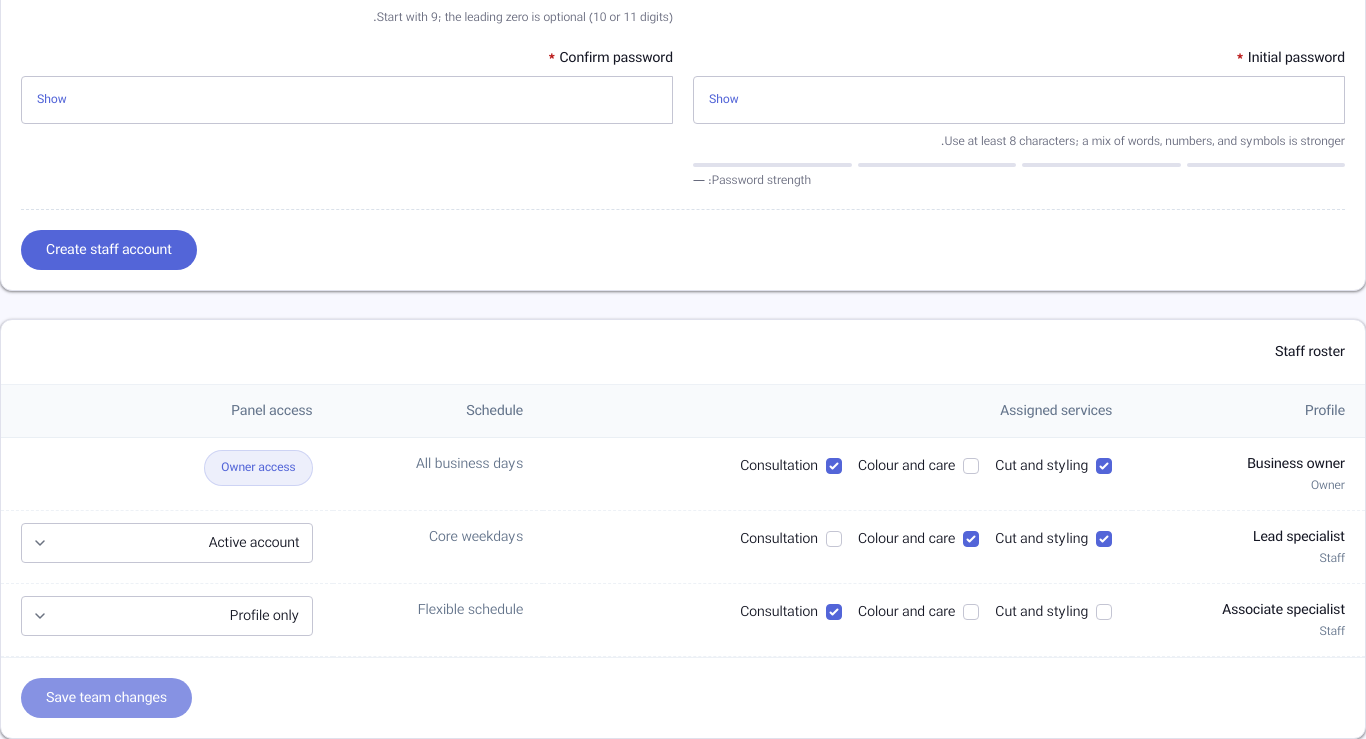
Test: TeamPage › saves changes to existing staff access
(page scrolled)
expect the button "Save team changes" is disabled: met, box [21,678,192,718]
Select "Invitation pending" in the dropdown named "Access state for Associate specialist" at (167, 616), box [21,596,313,636]
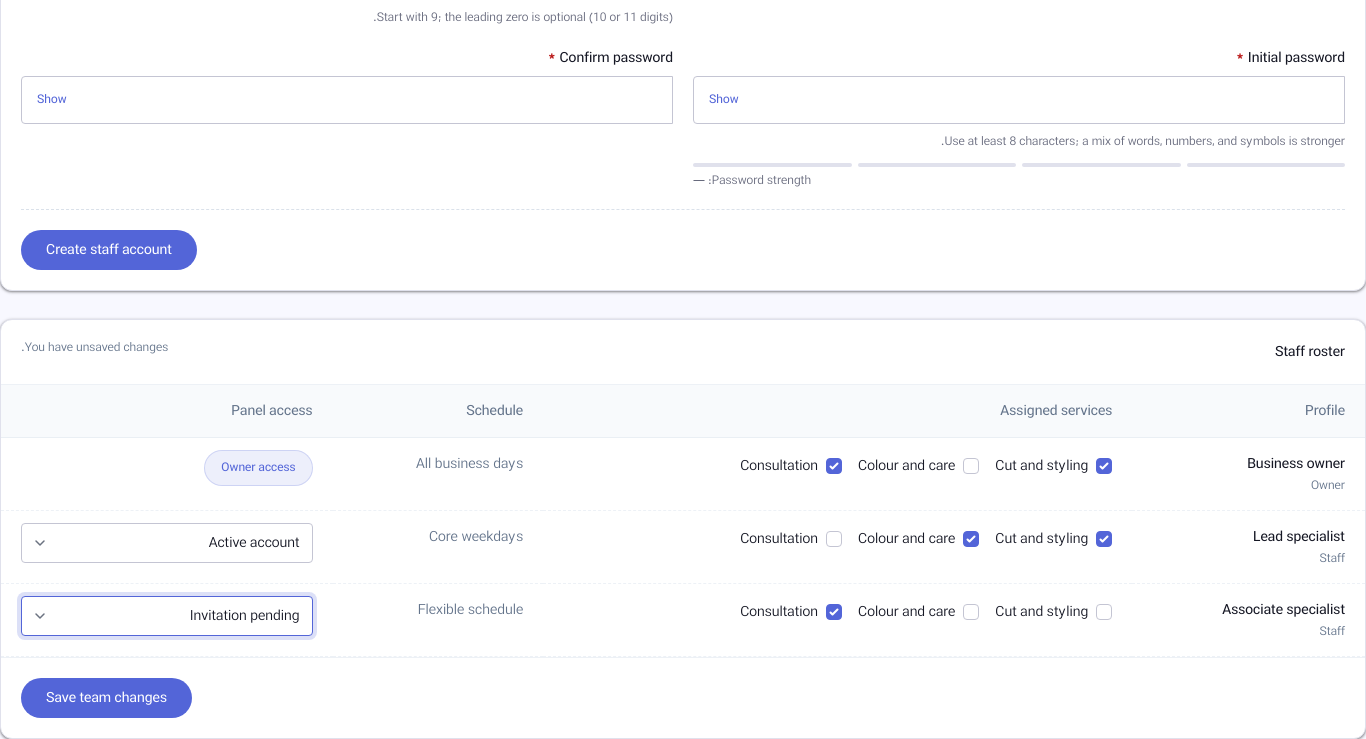
expect the text "You have unsaved changes." is shown: met, box [21,340,168,364]
expect the button "Save team changes" is enabled: met
Click the button "Save team changes".
click(106, 698)  # box [21,678,192,718]
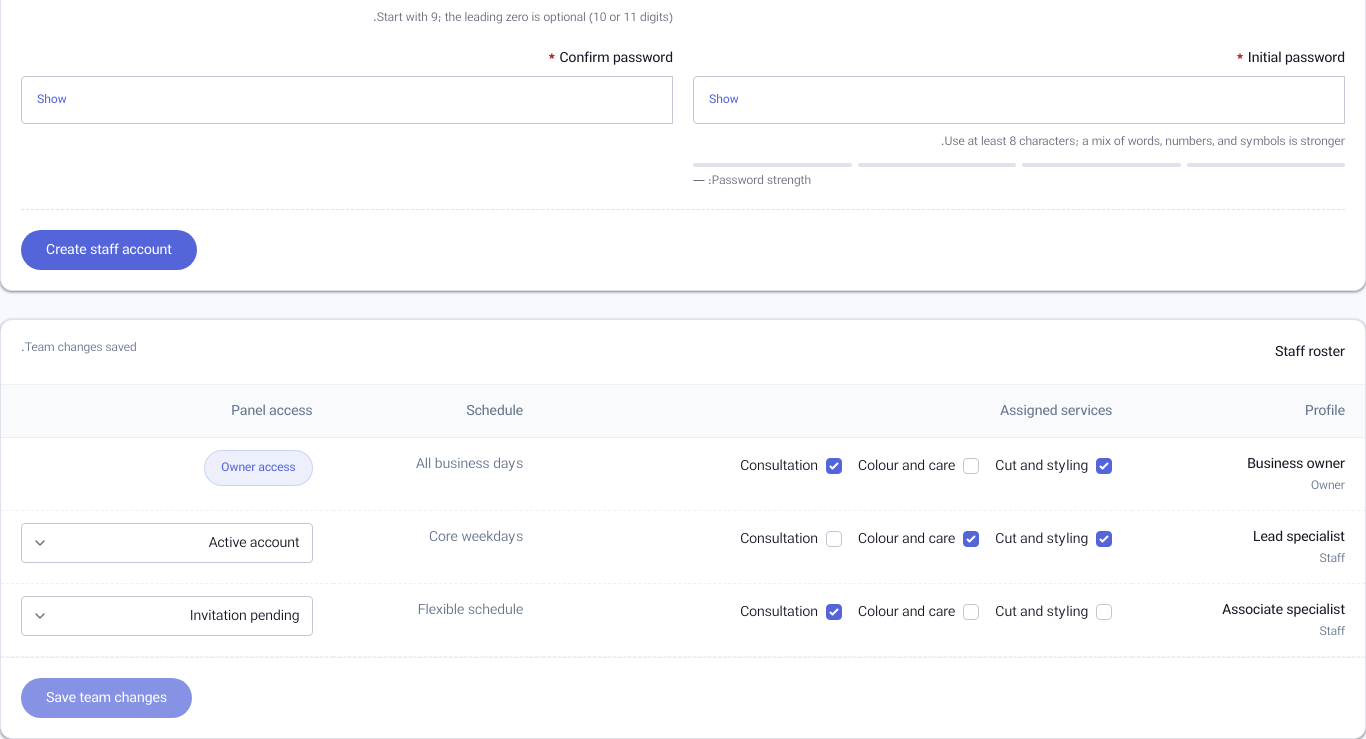
expect the text "Team changes saved." is shown: met, box [21,340,137,364]
